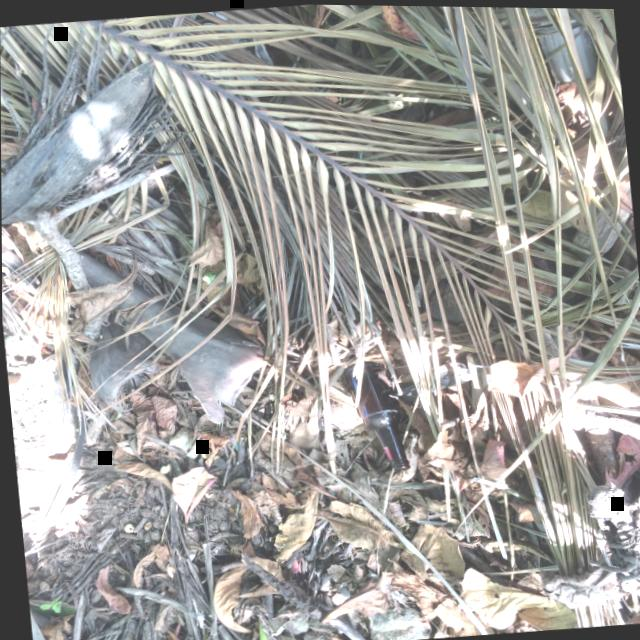Glass bottle: (356, 359, 409, 470)
